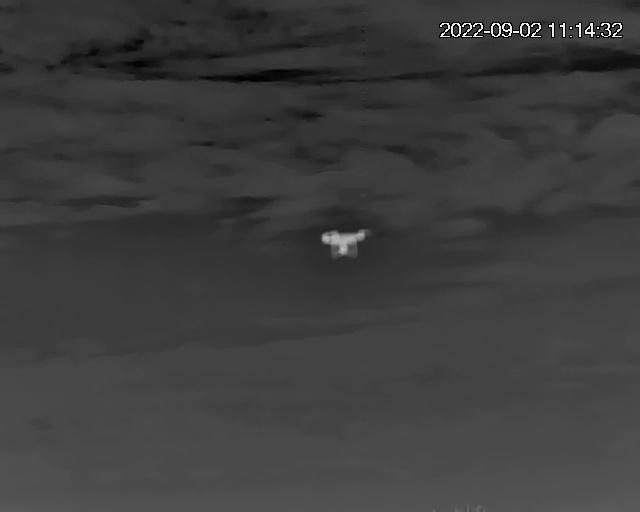DJI-Phantom: (321, 227, 370, 259)
